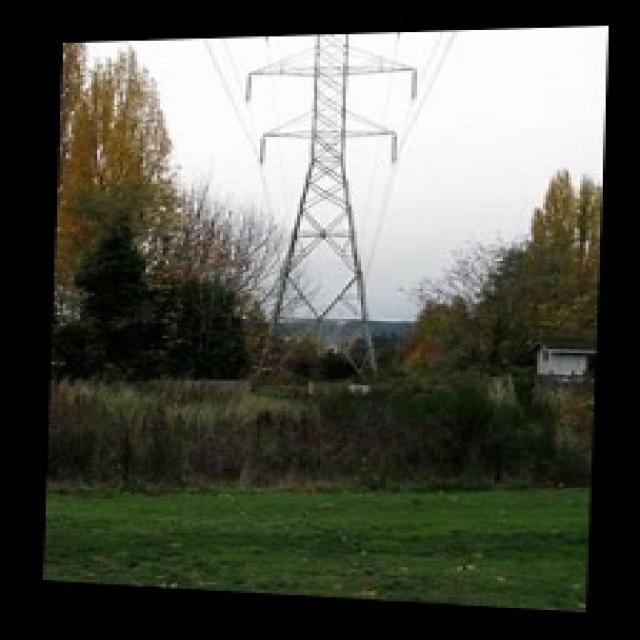utility poles: (175, 195, 316, 412), (331, 248, 484, 425)
